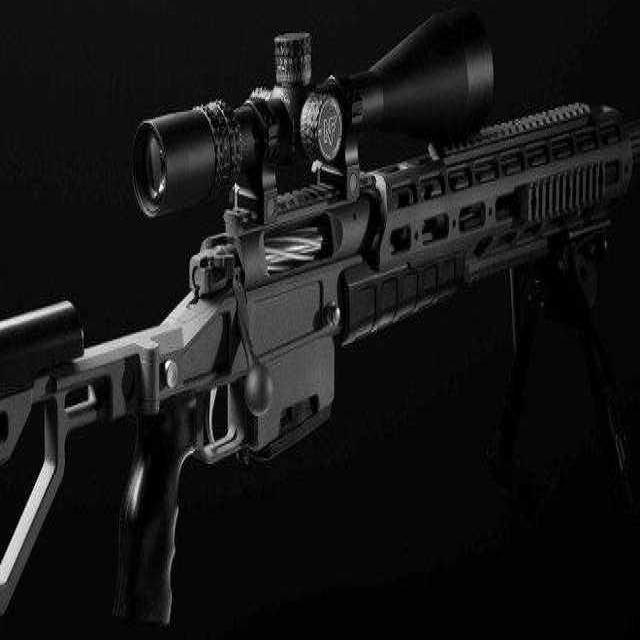weapon: (0, 13, 613, 640)
